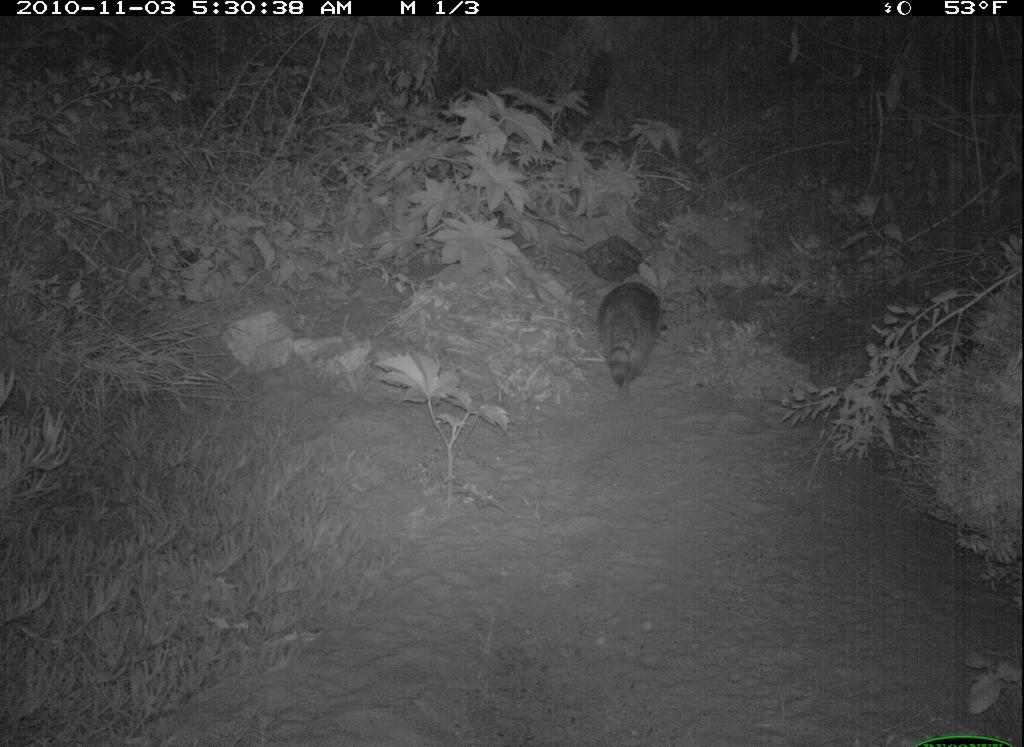raccoon: (588, 271, 690, 397)
